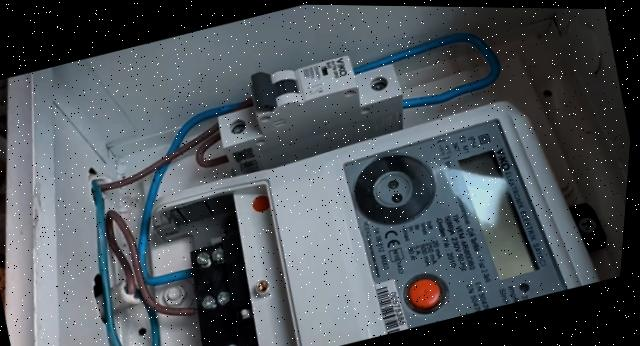electric-meter-detection: (152, 101, 599, 346)
